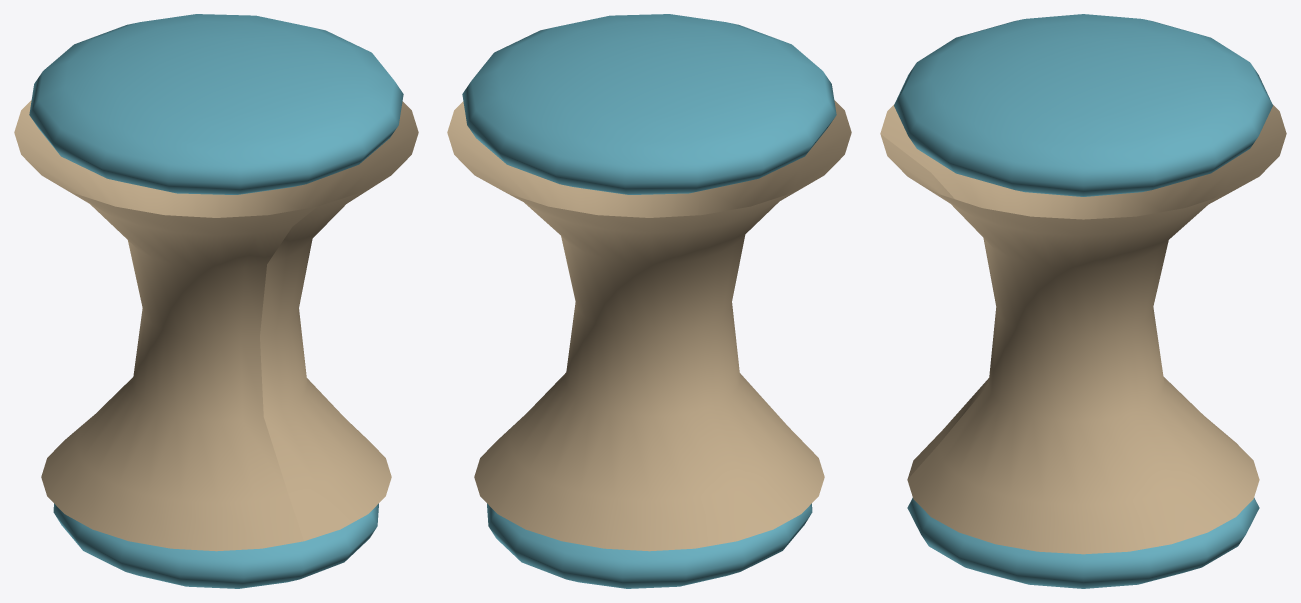
File: left_toe_4_distal.glb
3 views of the same model, side by side, from view 1: azimuth 30°, elevation 25°; view 2: azimuth 150°, elevation 25°; view 3: azimuth 270°, elevation 25° (orthographic).
Visible parts, largest first — view 1: left_toe_4_distal:diaphysis, left_toe_4_distal:proximal-envelope, left_toe_4_distal:distal-envelope; view 2: left_toe_4_distal:diaphysis, left_toe_4_distal:proximal-envelope, left_toe_4_distal:distal-envelope; view 3: left_toe_4_distal:diaphysis, left_toe_4_distal:proximal-envelope, left_toe_4_distal:distal-envelope.
Part boxes in pixels (x1,y1,x2,y2): left_toe_4_distal:diaphysis: (14,100,418,551); left_toe_4_distal:proximal-envelope: (29,14,403,194); left_toe_4_distal:distal-envelope: (53,503,378,588); left_toe_4_distal:diaphysis: (447,100,851,551); left_toe_4_distal:proximal-envelope: (462,14,836,194); left_toe_4_distal:distal-envelope: (487,503,812,588); left_toe_4_distal:diaphysis: (880,104,1286,554); left_toe_4_distal:proximal-envelope: (894,14,1272,196); left_toe_4_distal:distal-envelope: (907,497,1259,588).
Size of the model in its own units: 0.0387 by 0.0516 by 0.0387.
